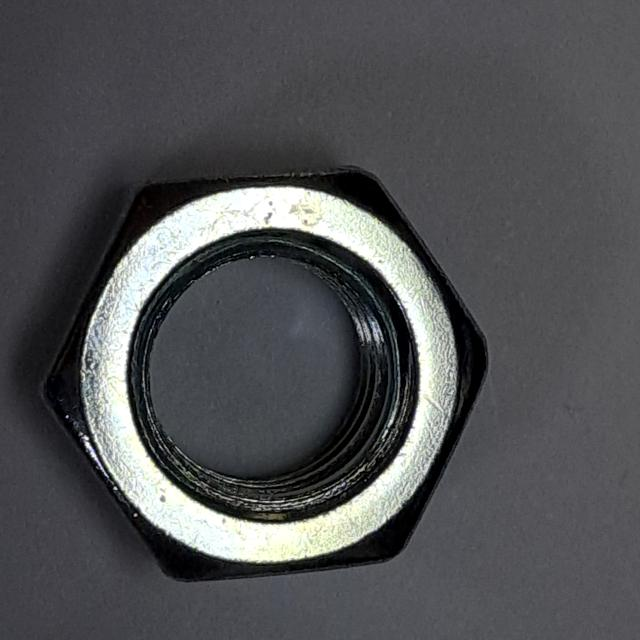Excellent: (25, 158, 508, 598)
